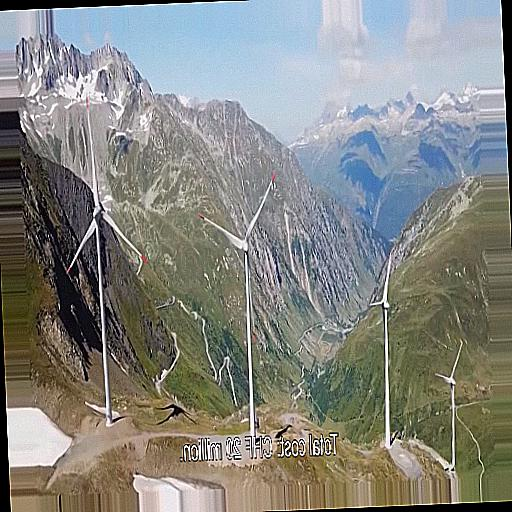wind turbine: (66, 98, 151, 429), (197, 169, 277, 436), (368, 251, 399, 452), (434, 340, 464, 467)
